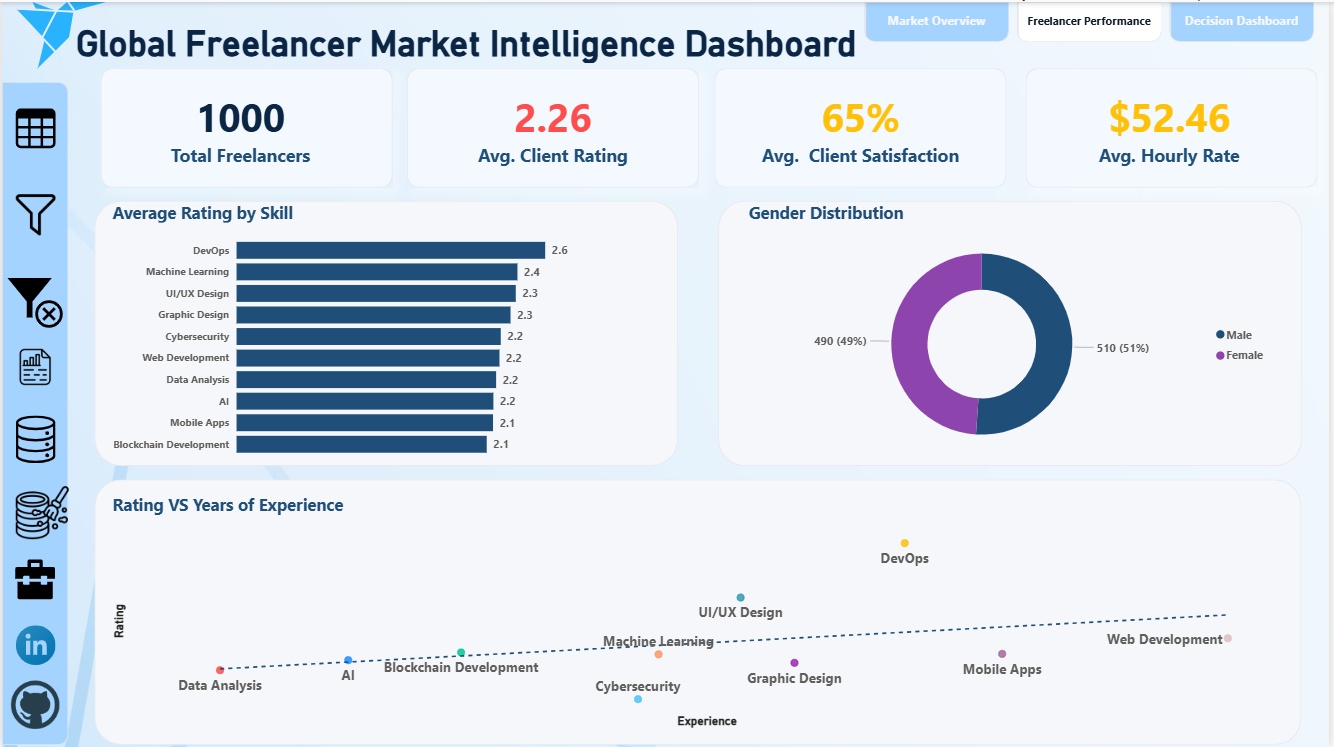

The page's visual inventory and layout, read from the dashboard file:
{"tool":"powerbi","page":{"name":"Freelancer Performance","canvas":[1600,900],"ordinal":1},"visuals":[{"type":"textbox","title":"Global Freelancer Market Intelligence Dashboard","box":[85.2,25.3,976,48],"z":0,"group":"g1"},{"type":"shape","box":[864,240,704,320],"z":0},{"type":"shape","box":[119.3,80,352,144],"z":1000},{"type":"group","id":"g1","title":"Group 5","box":[85.2,25.3,976,48],"z":2000},{"type":"image","box":[0,0,144,80],"z":3000},{"type":"shape","box":[112,240,704,320],"z":4000},{"type":"shape","box":[488.8,80,352,144],"z":5000},{"type":"shape","box":[860,80,352,144],"z":6000},{"type":"shape","box":[1234.6,80,352,144],"z":7000},{"type":"shape","box":[112,576,1456,320],"z":8000},{"type":"card","fields":{"Values":["global_freelancers.Total Freelancers"]},"box":[160,80,256,144],"z":9000},{"type":"barChart","title":"Average Rating by Skill","fields":{"Category":["global_freelancers.primary_skill"],"Y":["Avg(global_freelancers.rating)"]},"box":[128,240,656,320],"z":10000},{"type":"donutChart","title":"Gender Distribution","fields":{"Category":["global_freelancers.gender"],"Y":["global_freelancers.Total Freelancers"]},"box":[896,240,640,320],"z":11000},{"type":"scatterChart","title":"Rating VS Years of Experience","fields":{"X":["Sum(global_freelancers.years_of_experience)"],"Y":["Sum(global_freelancers.rating)"],"Category":["global_freelancers.primary_skill"],"Series":["global_freelancers.primary_skill"]},"box":[128,592,1424,288],"z":12000},{"type":"card","fields":{"Values":["global_freelancers.Average Client Rating"]},"box":[536.8,80,256,144],"z":14000},{"type":"card","fields":{"Values":["global_freelancers.Average Satisfaction Score"]},"box":[908,80,256,144],"z":15000},{"type":"card","fields":{"Values":["global_freelancers.Average Hourly Rate"]},"box":[1280,80,256,144],"z":16000},{"type":"pageNavigator","box":[1040,0,544,48],"z":17000},{"type":"shape","box":[0,96,80,800],"z":18000},{"type":"image","box":[16,224,48,64],"z":19000},{"type":"image","box":[17,736,48,80],"z":20000},{"type":"image","box":[17,480,48,96],"z":21000},{"type":"image","box":[0,816,80,64],"z":22000},{"type":"image","box":[17,96,48,112],"z":23000},{"type":"image","box":[16,576,64,80],"z":24000},{"type":"image","box":[0,672,80,48],"z":25000},{"type":"image","box":[0,320,80,80],"z":26000},{"type":"image","box":[0,416,80,48],"z":27000}]}

Visuals, with their boxes on the page's 1600x900 design canvas (x1, y1, x2, y2). These are canvas units, not pixel positions in the 1334x747 screenshot, which may show the page scaled, cropped or inside an application window:
"Global Freelancer Market Intelligence Dashboard" textbox: <box>85,25,1061,73</box>
shape: <box>864,240,1568,560</box>
shape: <box>119,80,471,224</box>
"Group 5" group: <box>85,25,1061,73</box>
image: <box>0,0,144,80</box>
shape: <box>112,240,816,560</box>
shape: <box>489,80,841,224</box>
shape: <box>860,80,1212,224</box>
shape: <box>1235,80,1587,224</box>
shape: <box>112,576,1568,896</box>
card - global_freelancers.Total Freelancers: <box>160,80,416,224</box>
"Average Rating by Skill" barChart: <box>128,240,784,560</box>
"Gender Distribution" donutChart: <box>896,240,1536,560</box>
"Rating VS Years of Experience" scatterChart: <box>128,592,1552,880</box>
card - global_freelancers.Average Client Rating: <box>537,80,793,224</box>
card - global_freelancers.Average Satisfaction Score: <box>908,80,1164,224</box>
card - global_freelancers.Average Hourly Rate: <box>1280,80,1536,224</box>
pageNavigator: <box>1040,0,1584,48</box>
shape: <box>0,96,80,896</box>
image: <box>16,224,64,288</box>
image: <box>17,736,65,816</box>
image: <box>17,480,65,576</box>
image: <box>0,816,80,880</box>
image: <box>17,96,65,208</box>
image: <box>16,576,80,656</box>
image: <box>0,672,80,720</box>
image: <box>0,320,80,400</box>
image: <box>0,416,80,464</box>
